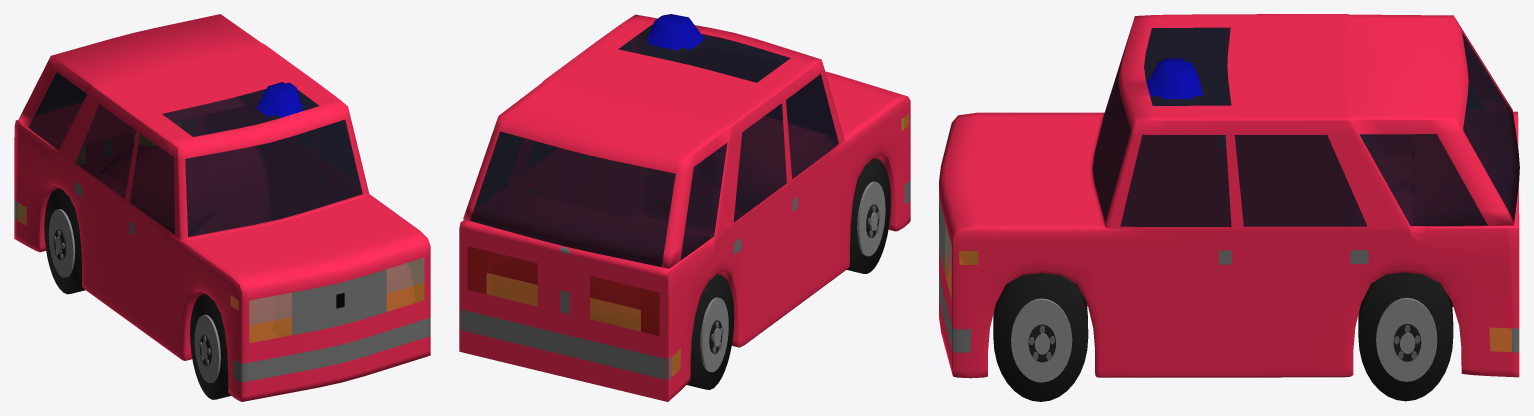
Rendered from car3wagonPinkEaserEgg.fbx.
3 renders of one model, left to right at view 1: azimuth 30°, elevation 25°; view 2: azimuth 150°, elevation 25°; view 3: azimuth 270°, elevation 25°, orthographic. The views are drawn at different scales.
Parts seen in each view (by area): view 1: Car2, LugNut.001, LugNut.002; view 2: Car2, LugNut.002, LugNut.001; view 3: Car2, LugNut.004, LugNut.003.
Boxes of the visible parts, x1=… form: Car2: x1=14, y1=14, x2=430, y2=401; LugNut.001: x1=190, y1=294, x2=231, y2=399; LugNut.002: x1=44, y1=188, x2=85, y2=294; Car2: x1=459, y1=14, x2=910, y2=401; LugNut.002: x1=687, y1=274, x2=734, y2=389; LugNut.001: x1=846, y1=158, x2=890, y2=273; Car2: x1=939, y1=14, x2=1519, y2=378; LugNut.004: x1=993, y1=273, x2=1088, y2=401; LugNut.003: x1=1358, y1=272, x2=1453, y2=401.
Size of the model in its own units: 187 by 220 by 385.
